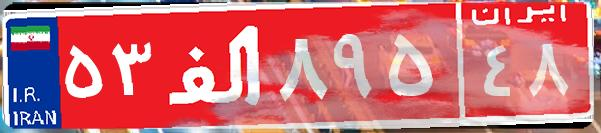3: (110, 28, 158, 105)
4: (475, 38, 525, 113)
5: (385, 28, 445, 110), (57, 26, 110, 107)
8: (273, 28, 330, 110), (525, 38, 570, 115)
9: (330, 28, 385, 110)
الف: (158, 15, 273, 115)
